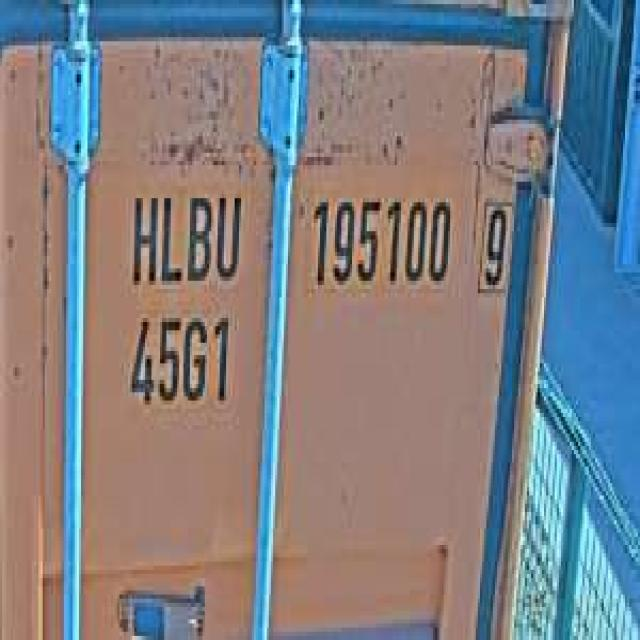dv: (474, 186, 518, 301)
owner: (124, 178, 245, 293)
serial: (305, 182, 454, 293)
size: (121, 301, 236, 417)
